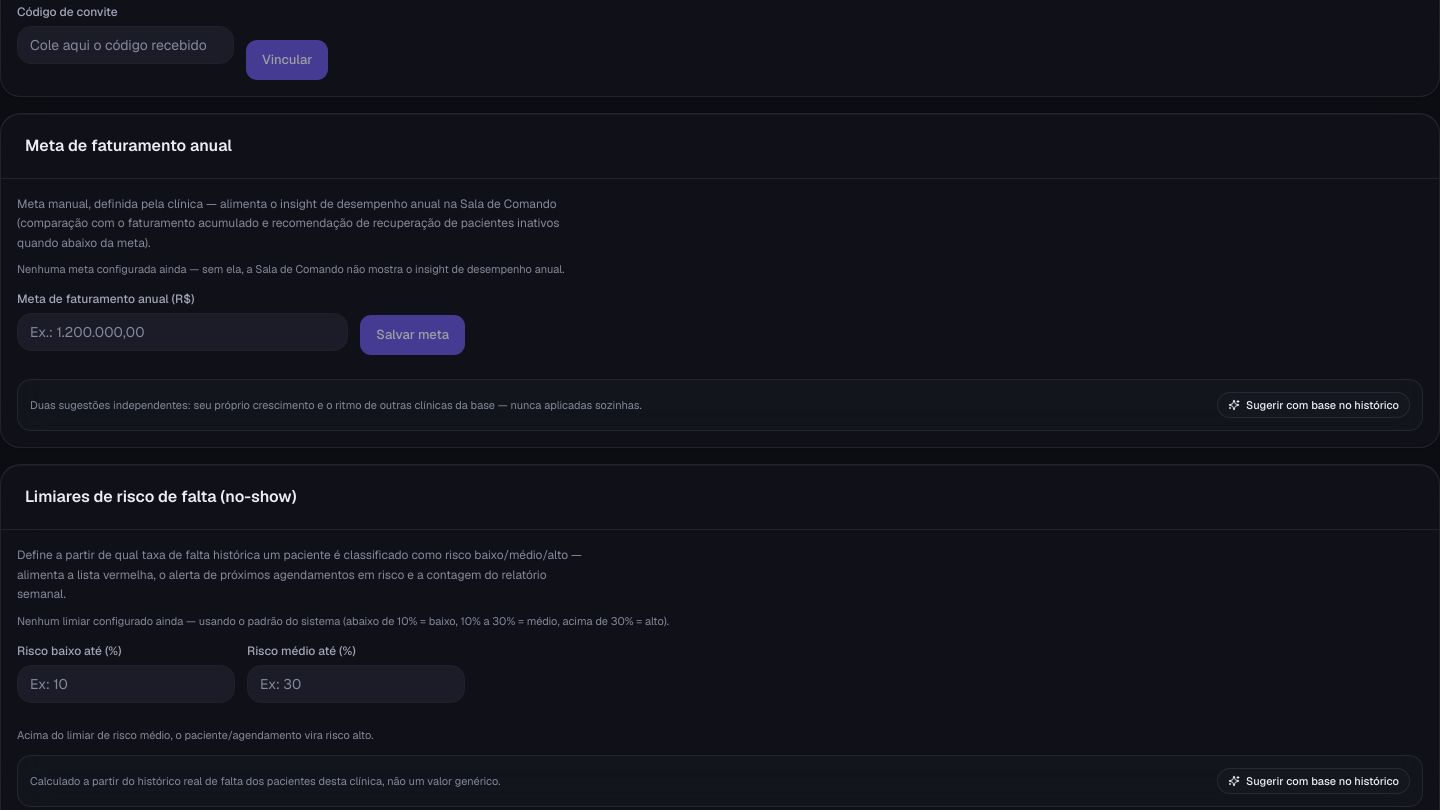
Test: TenantPage — Épico F2.1 do Plano Diretor (Calibração por especialidade/porte) › owner vê e aplica a sugestão de meta anual (crescimento próprio e ritmo de rede)
(page scrolled)
Expected: the heading "Meta de faturamento anual" is shown, [25,134,232,158]
Click the 1st button "Sugerir com base no histórico" at coordinates (1314, 405), box [1217,392,1410,418]
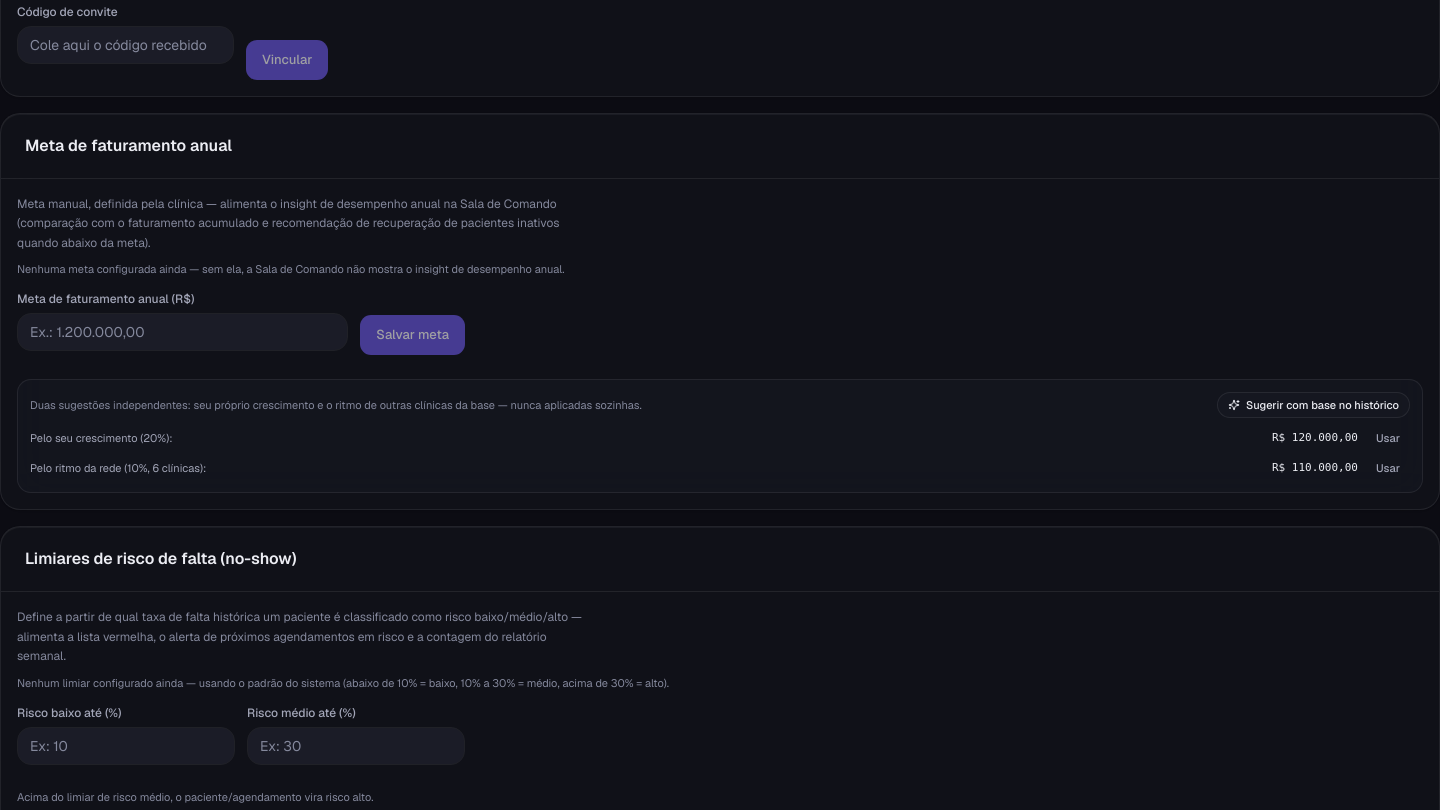
Expected: the text "Pelo seu crescimento (20%):" is shown, [30,430,172,446]
Expected: the text "Pelo ritmo da rede (10%, 6 clínicas):" is shown, [30,460,206,476]
Click the button "Usar" next to "R$ 120.000,00" at coordinates (1388, 438), box [1366,426,1410,450]
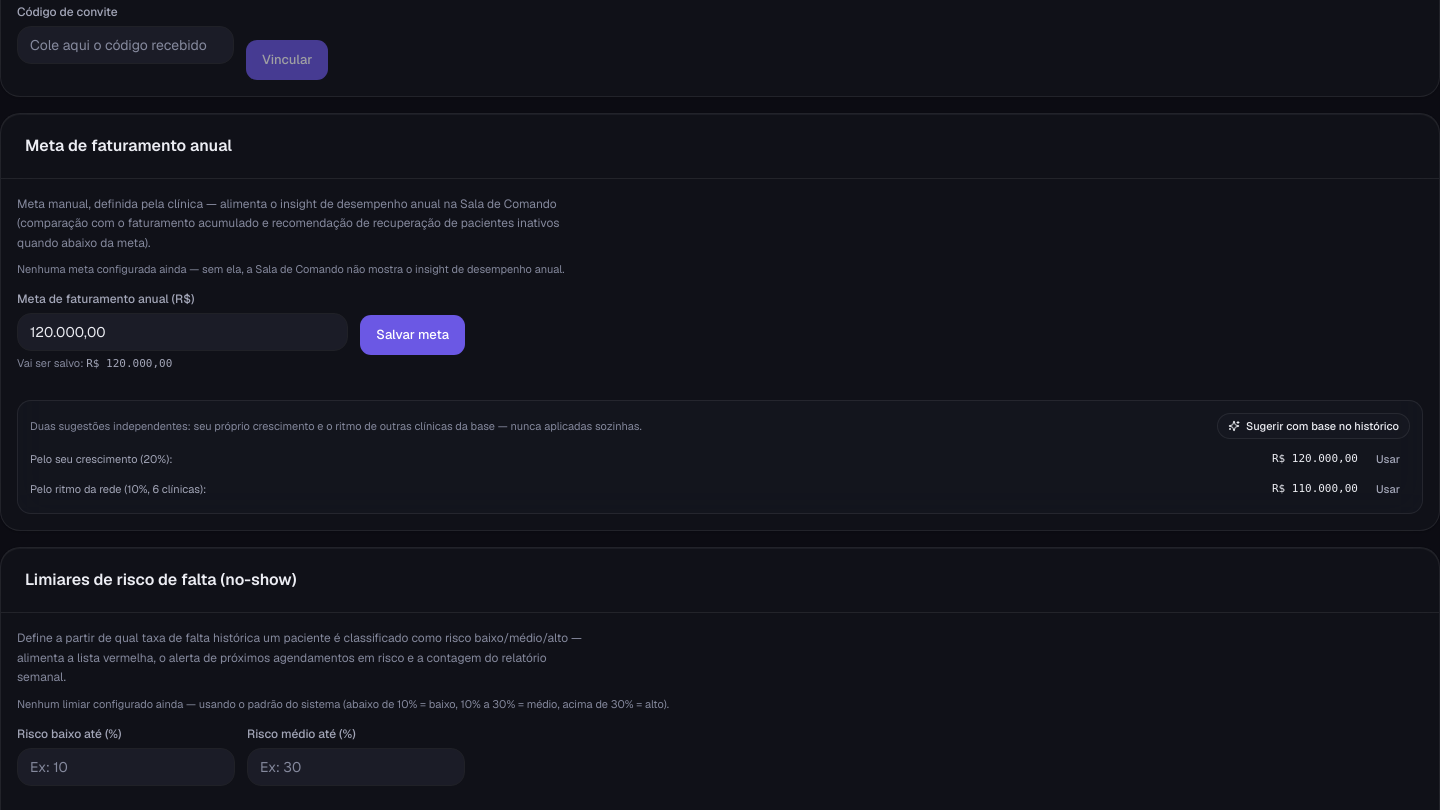
Expected: the field labelled "Meta de faturamento anual (R$)" holds "120.000,00", [17,313,348,351]
Click the button "Usar" next to "R$ 110.000,00" at coordinates (1388, 489), box [1366,477,1410,501]
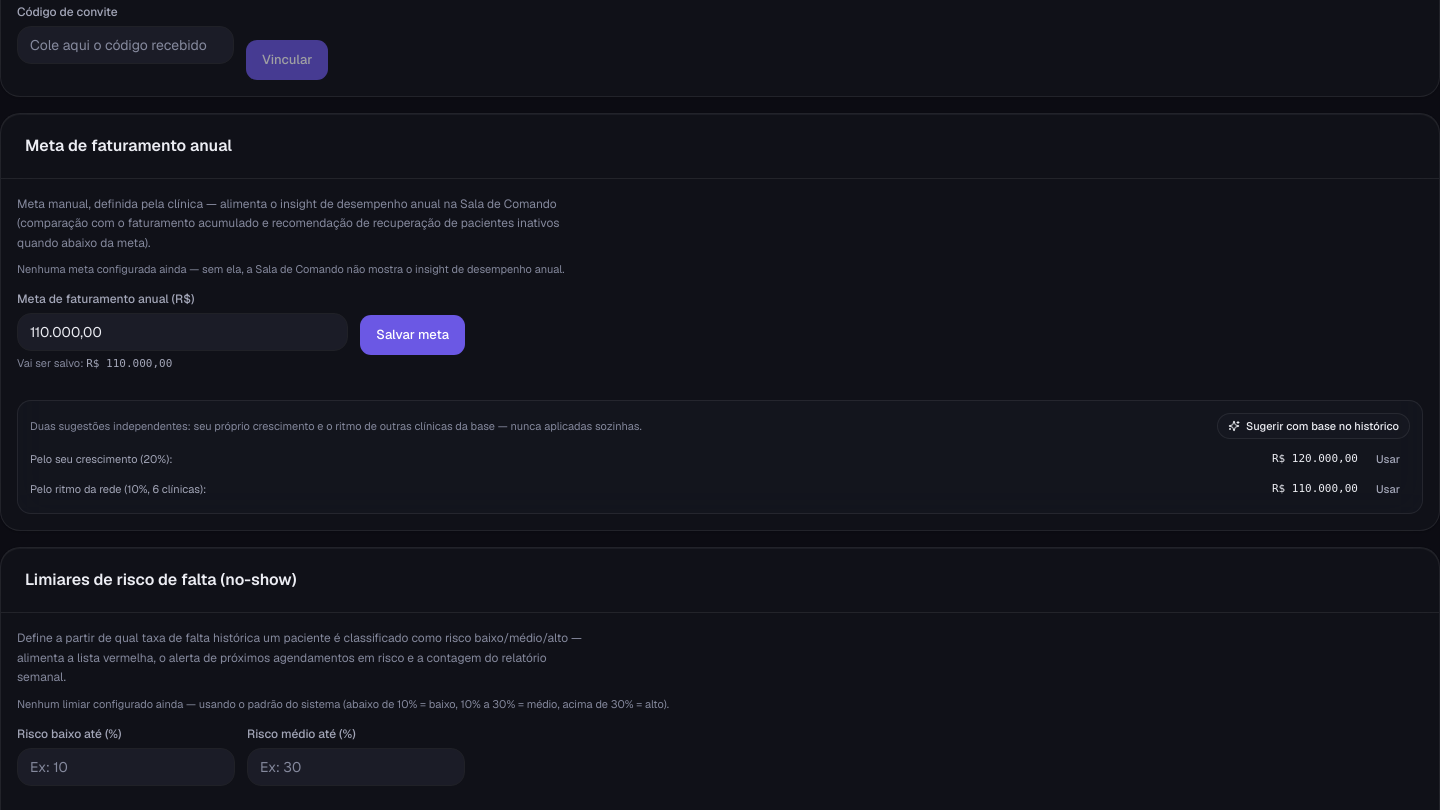
Expected: the field labelled "Meta de faturamento anual (R$)" holds "110.000,00", [17,313,348,351]
